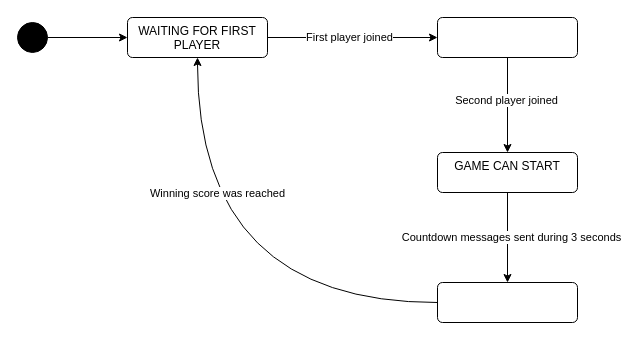
The diagram is 638 pixels wide and 340 high, and some of its shapes have lost their labels. Here are the shapes that lost their labels. From the top down, the centre of each, then its label:
the point at 507,37: WAITING FOR SECOND PLAYER
the point at 507,302: GAME IS ON
